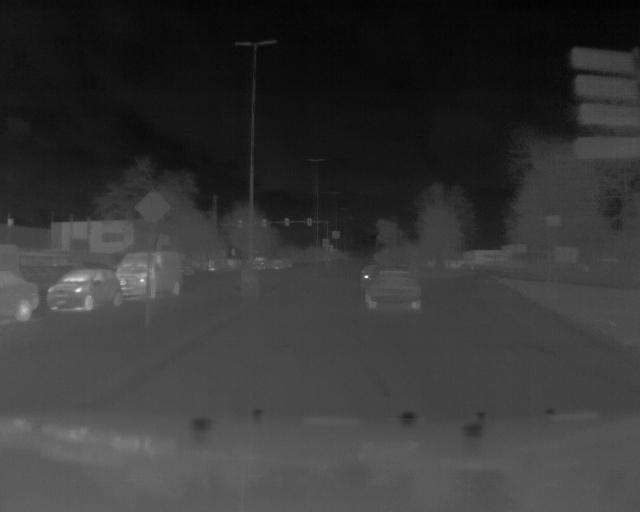car: (121, 246, 186, 302), (50, 268, 119, 316), (366, 270, 422, 315), (1, 273, 40, 328)
